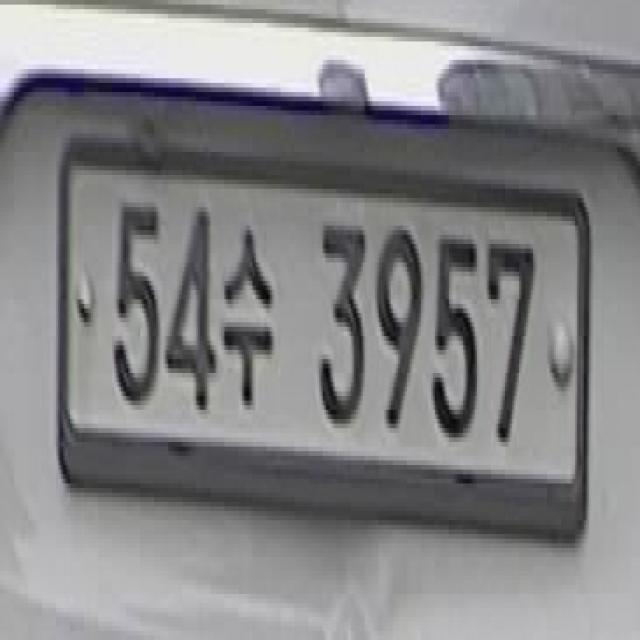3: (314, 202, 372, 432)
4: (163, 202, 226, 414)
5: (105, 175, 165, 410), (433, 212, 482, 446)
7: (486, 216, 552, 469)
9: (375, 230, 423, 438)
license_plate: (45, 133, 592, 548)
su: (217, 189, 286, 410)
